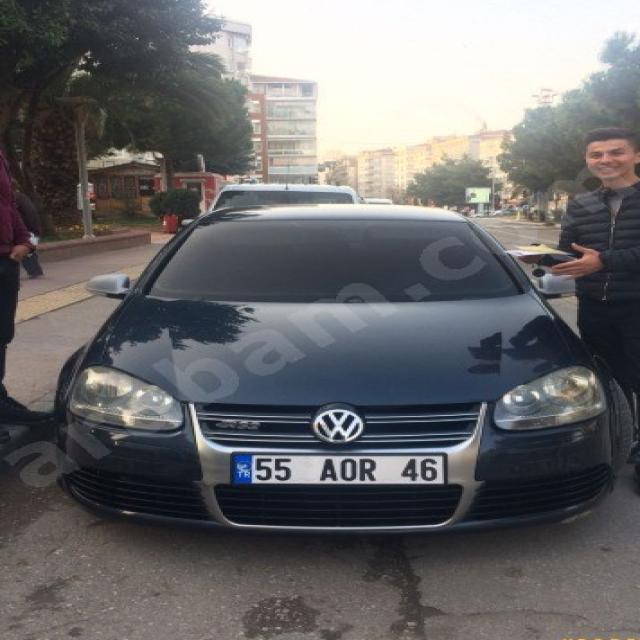license_plate: (231, 452, 445, 484)
